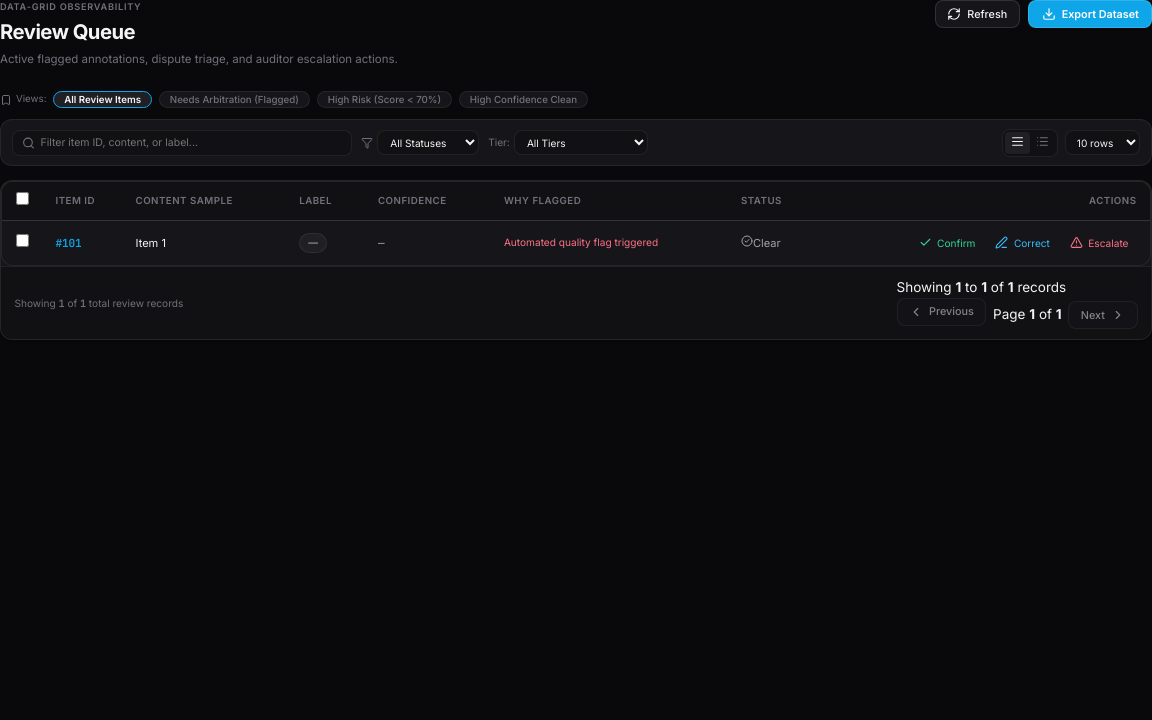
ReviewQueue Export › handles export failure with error toast
Expected: the text "#101" is shown, [56,236,82,250]
Click the button "Export Dataset" at coordinates (1090, 14), box [1028,0,1151,28]
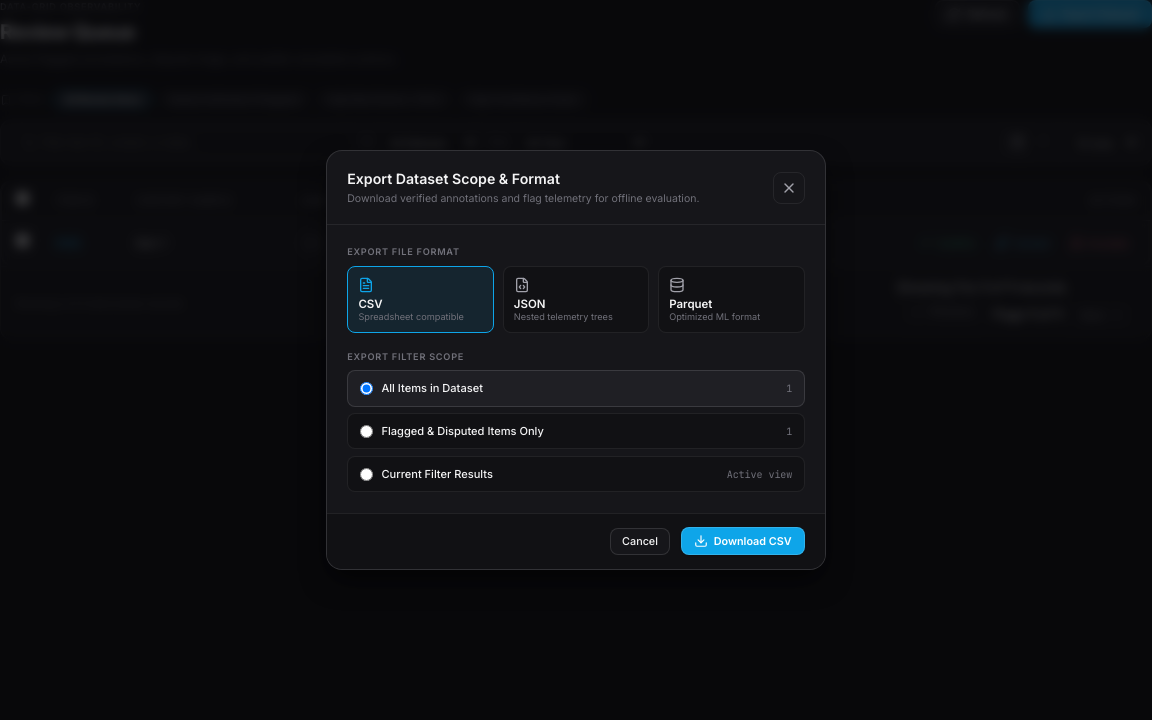
Click the button "Download CSV" at coordinates (743, 541), box [680,527,805,555]
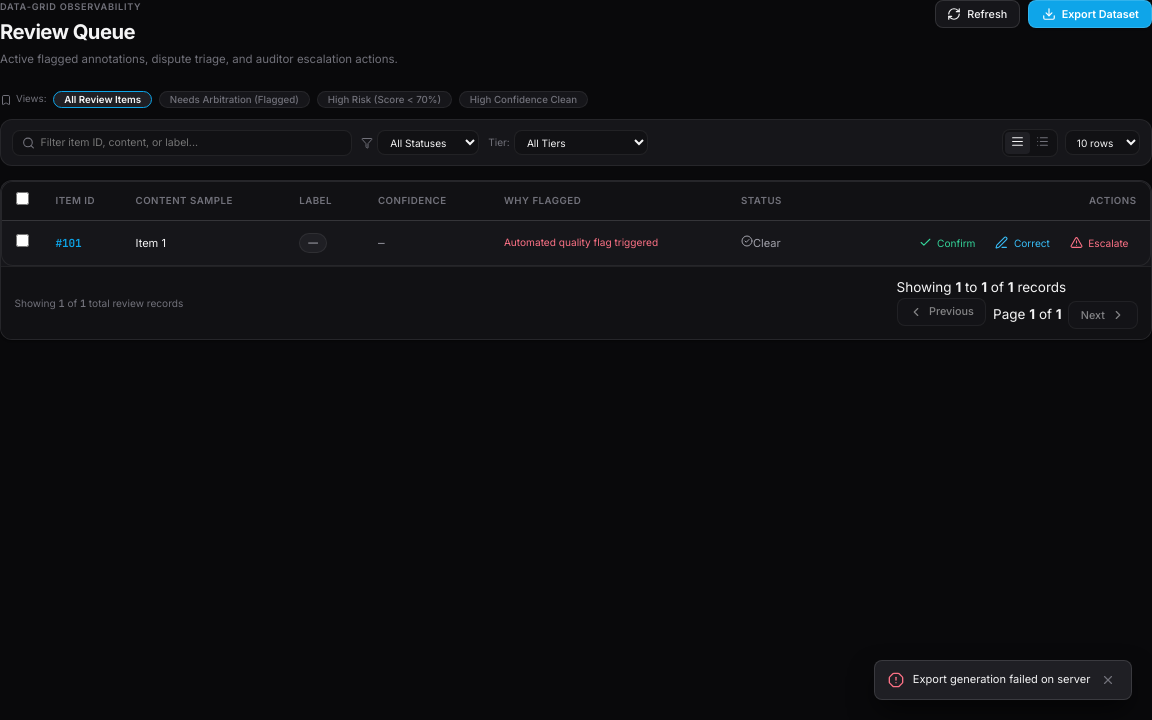
Expected: the text "Export generation failed on server" is shown, [913,672,1090,687]
